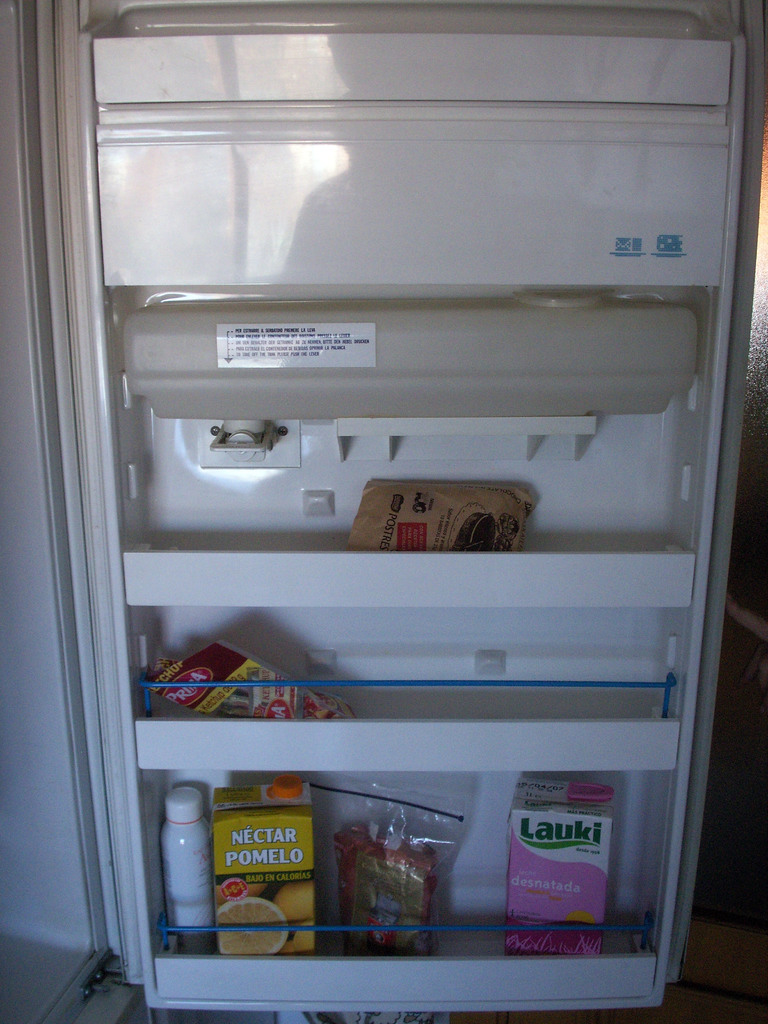refrigerator door: (129, 166, 678, 937)
